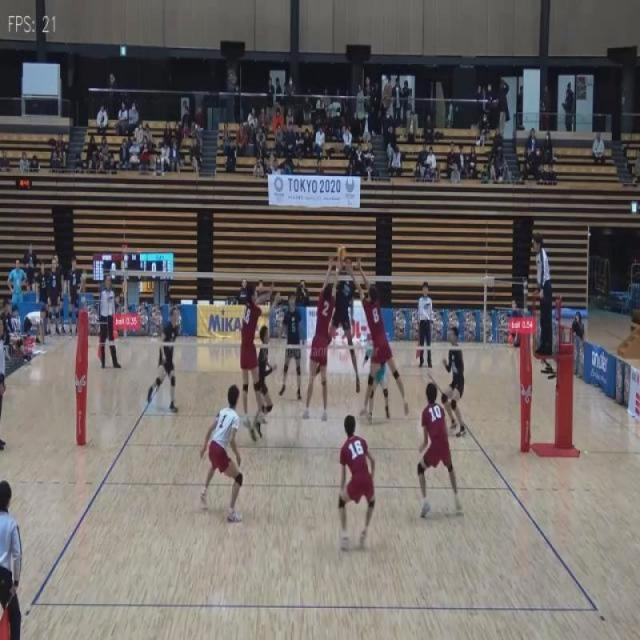volleyball: (337, 244, 347, 259)
